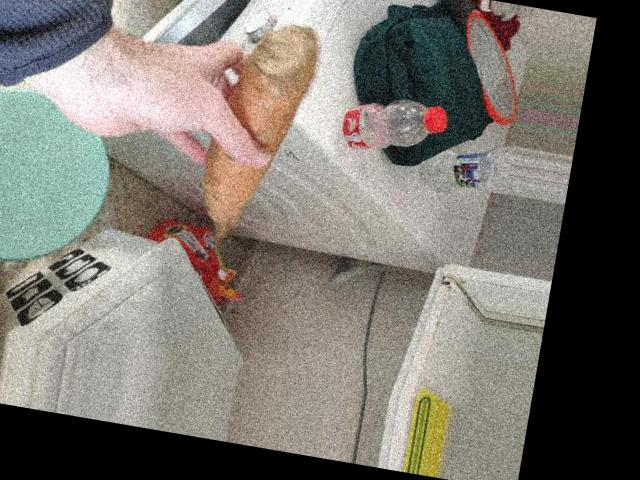sweet_potato: (206, 18, 309, 254)
